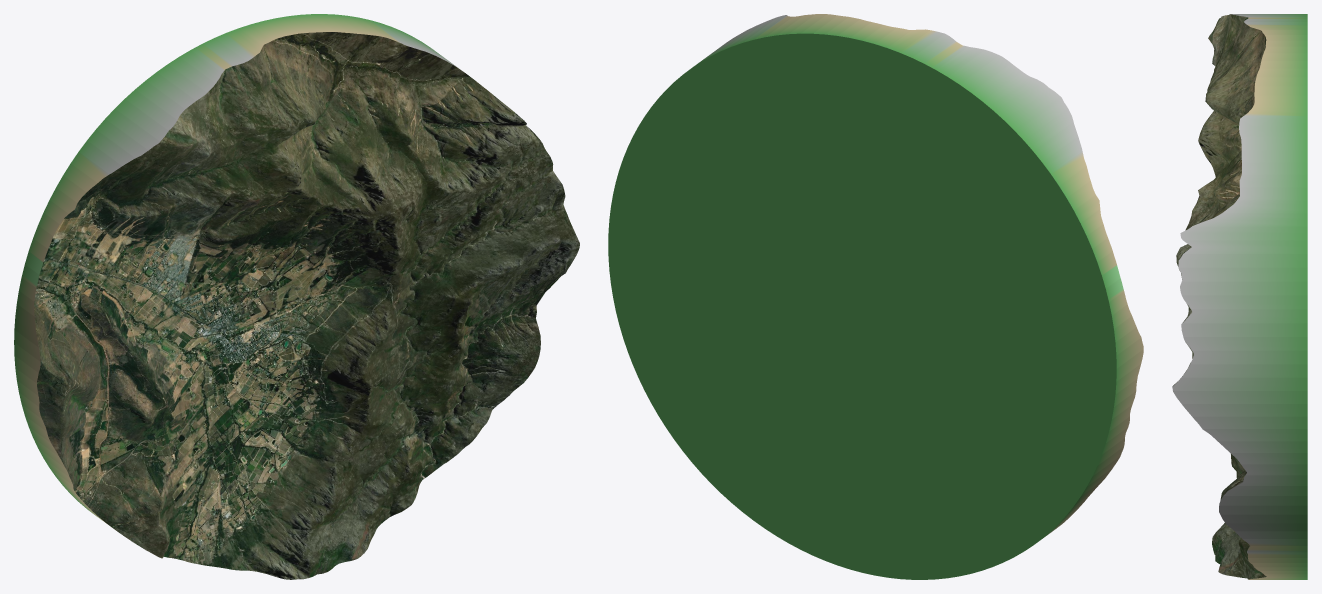
Rendered from franschoek.glb.
3 renders of one model, left to right at view 1: azimuth 30°, elevation 25°; view 2: azimuth 150°, elevation 25°; view 3: azimuth 270°, elevation 25°, orthographic. The views are drawn at different scales.
Bounding box in the file's own units: 200 × 200 × 47.89.
2 materials, 1 textured.
